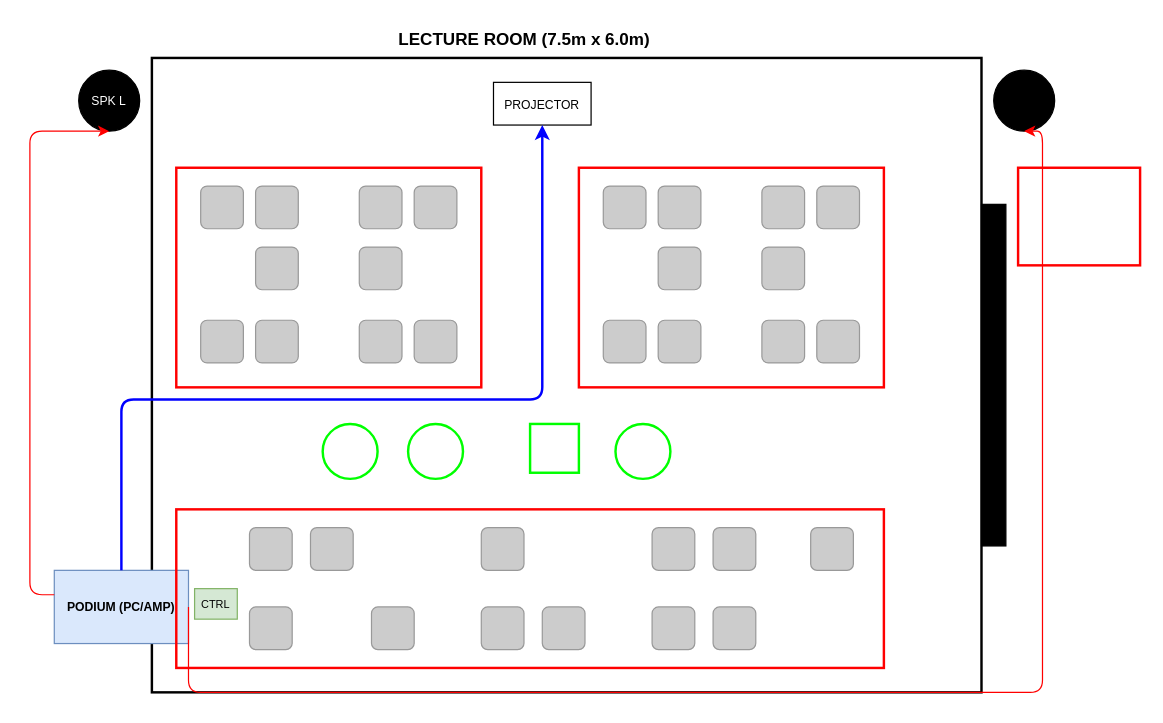
This 1163x723 diagram has some shape labels left out. Each missing label, with the centre of its shape:
LEGEND: the point at 1078,216
SPK R: the point at 1023,100
